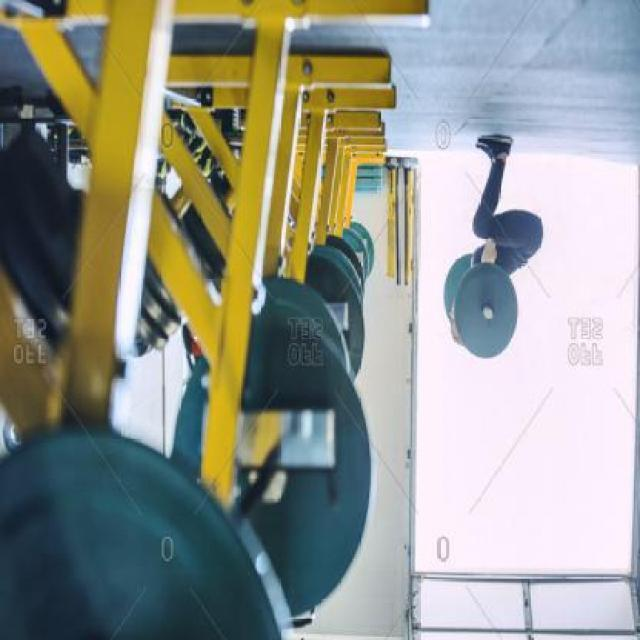Barbell: (480, 304, 494, 324)
